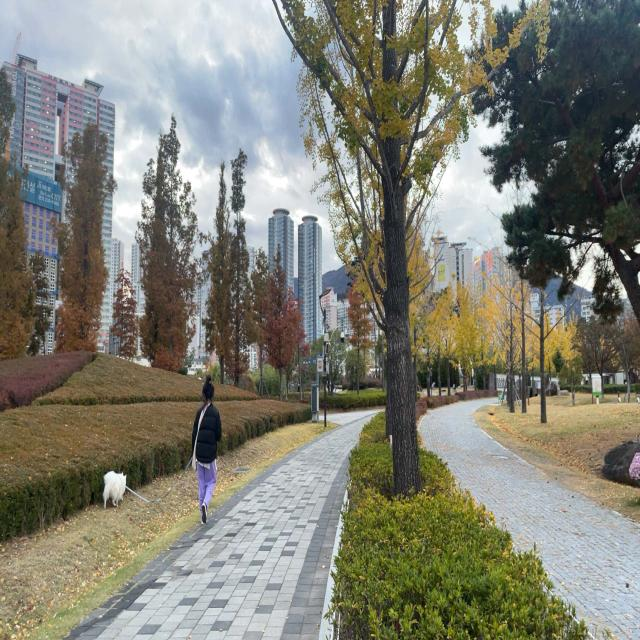Leashed_Dog: (102, 441, 208, 510)
